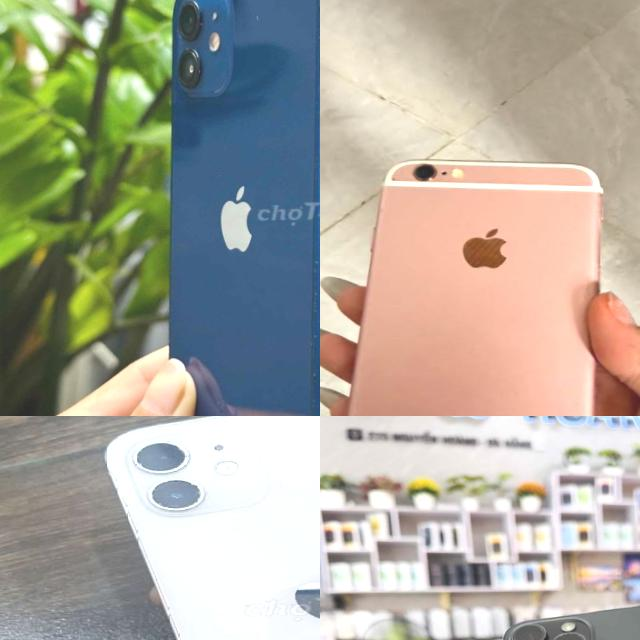scratch: (584, 272, 594, 298), (379, 206, 384, 214), (391, 176, 396, 182)
